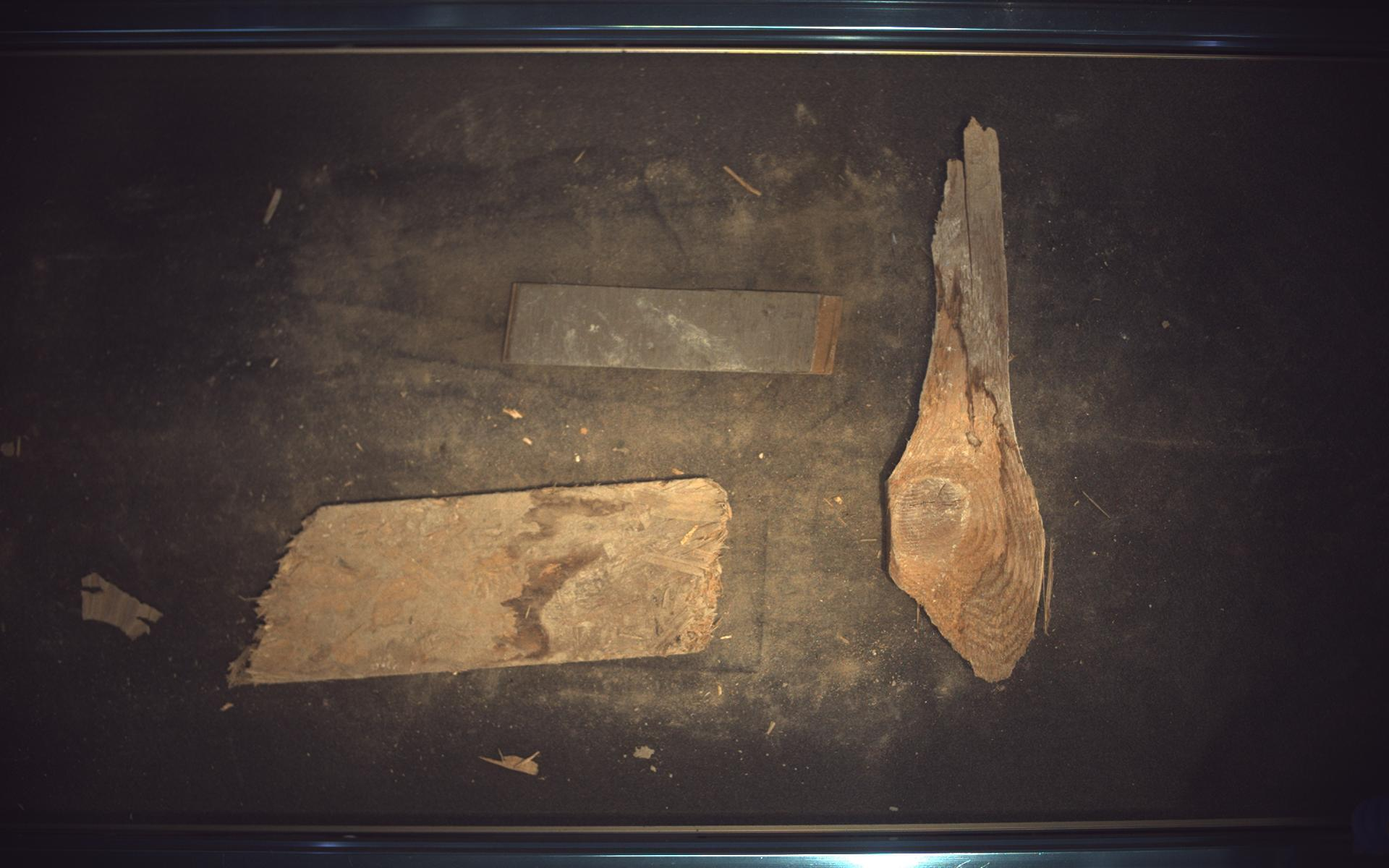wood: (229, 478, 732, 686), (889, 117, 1050, 683), (504, 282, 844, 375), (80, 573, 161, 641)
